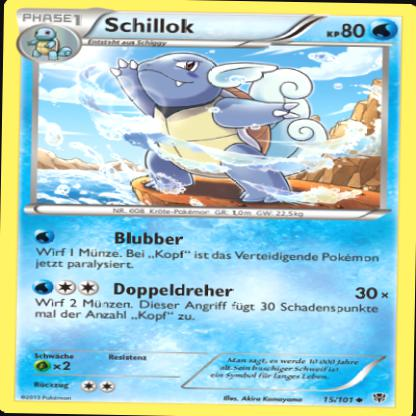Wartortle: (107, 48, 334, 208)
